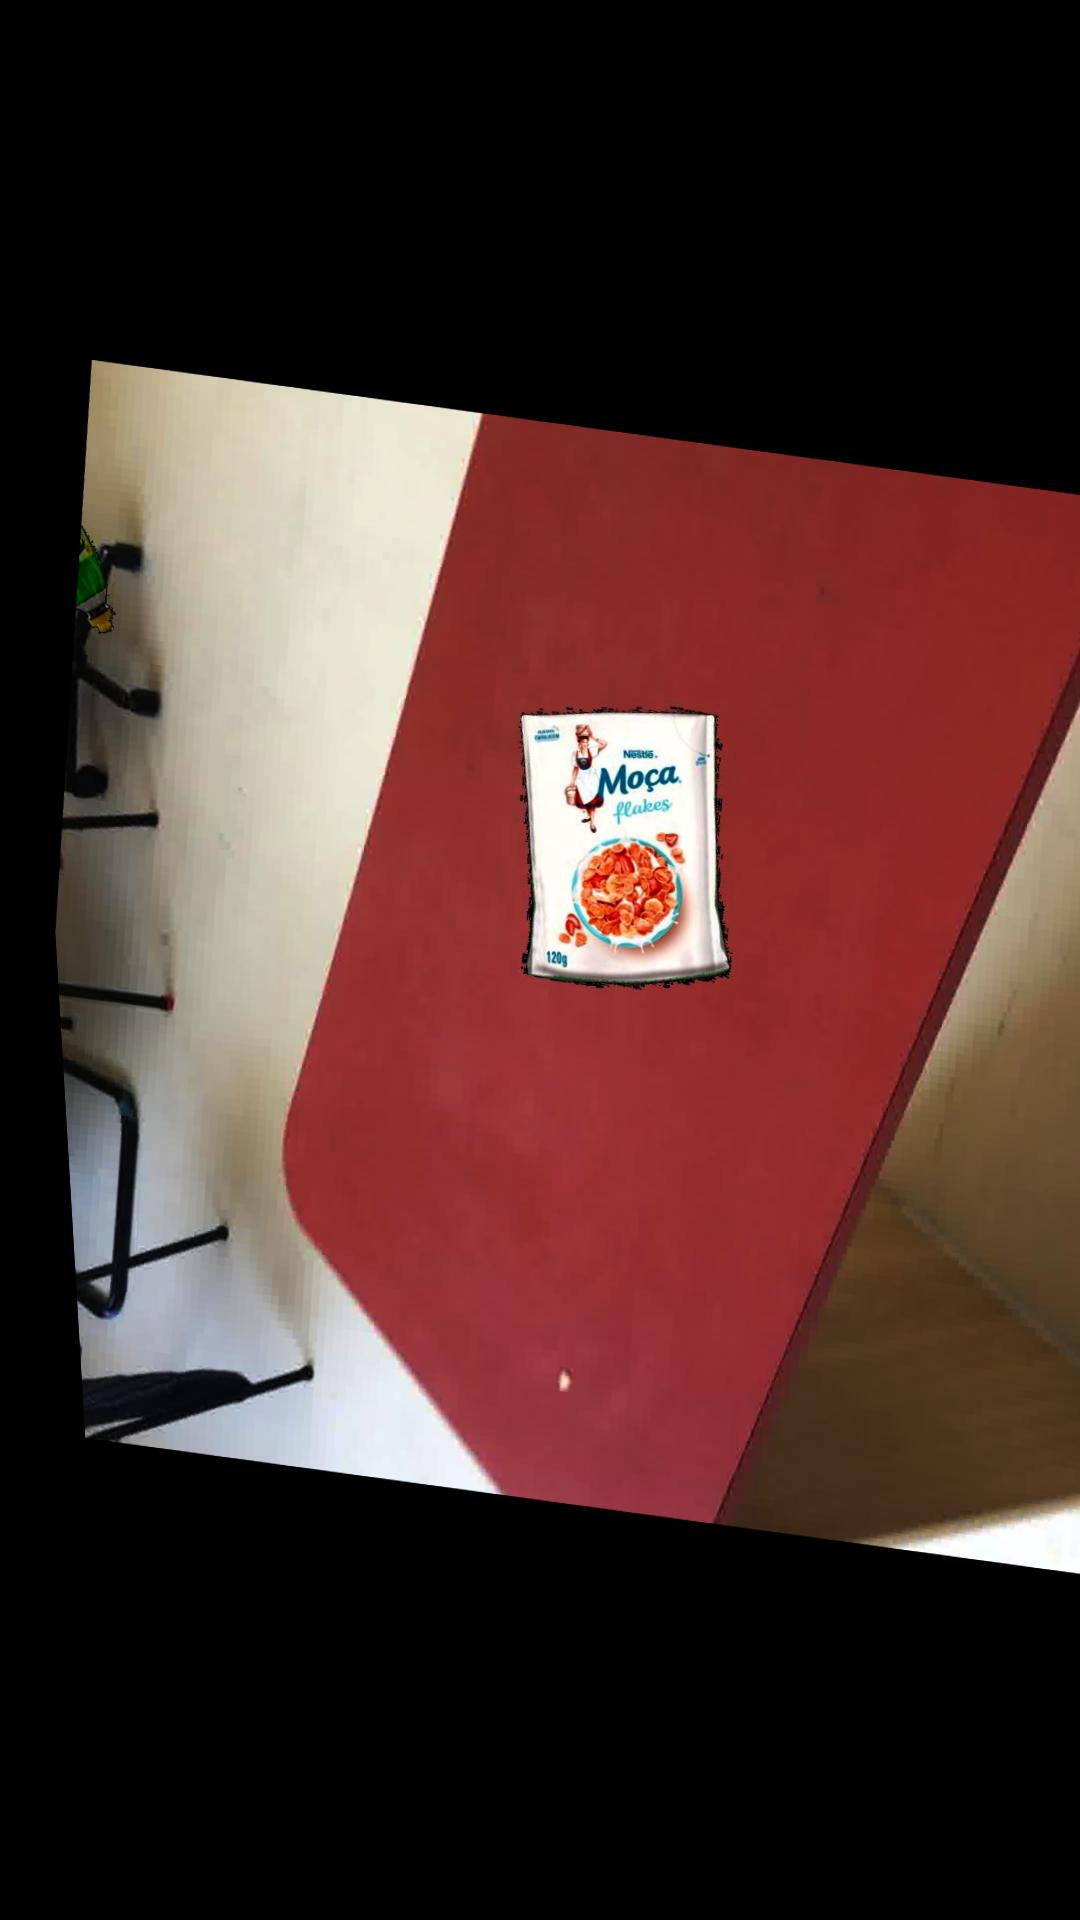cleaner: (67, 526, 103, 632)
corn flakes: (508, 705, 716, 985)
